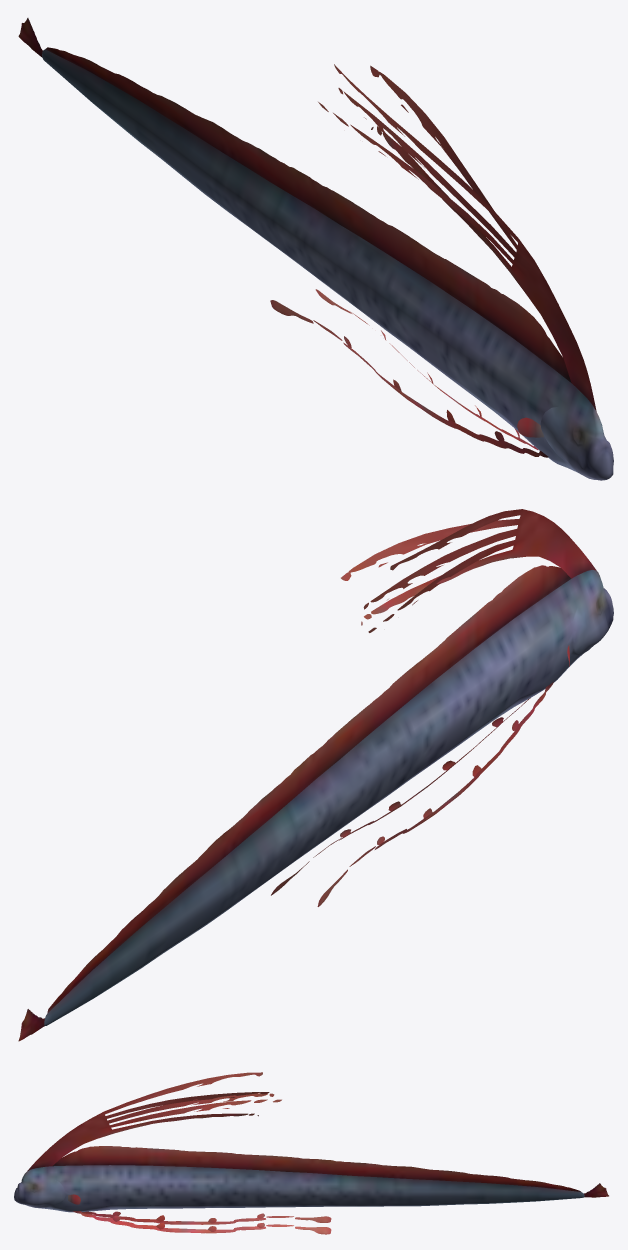
The model's file is oarfish.glb.
3 renders of one model, top to bottom at view 1: azimuth 30°, elevation 25°; view 2: azimuth 150°, elevation 25°; view 3: azimuth 270°, elevation 25°, orthographic. The views are drawn at different scales.
Size of the model in its own units: 1.95 by 9.67 by 35.1.
1 material, 1 textured.
